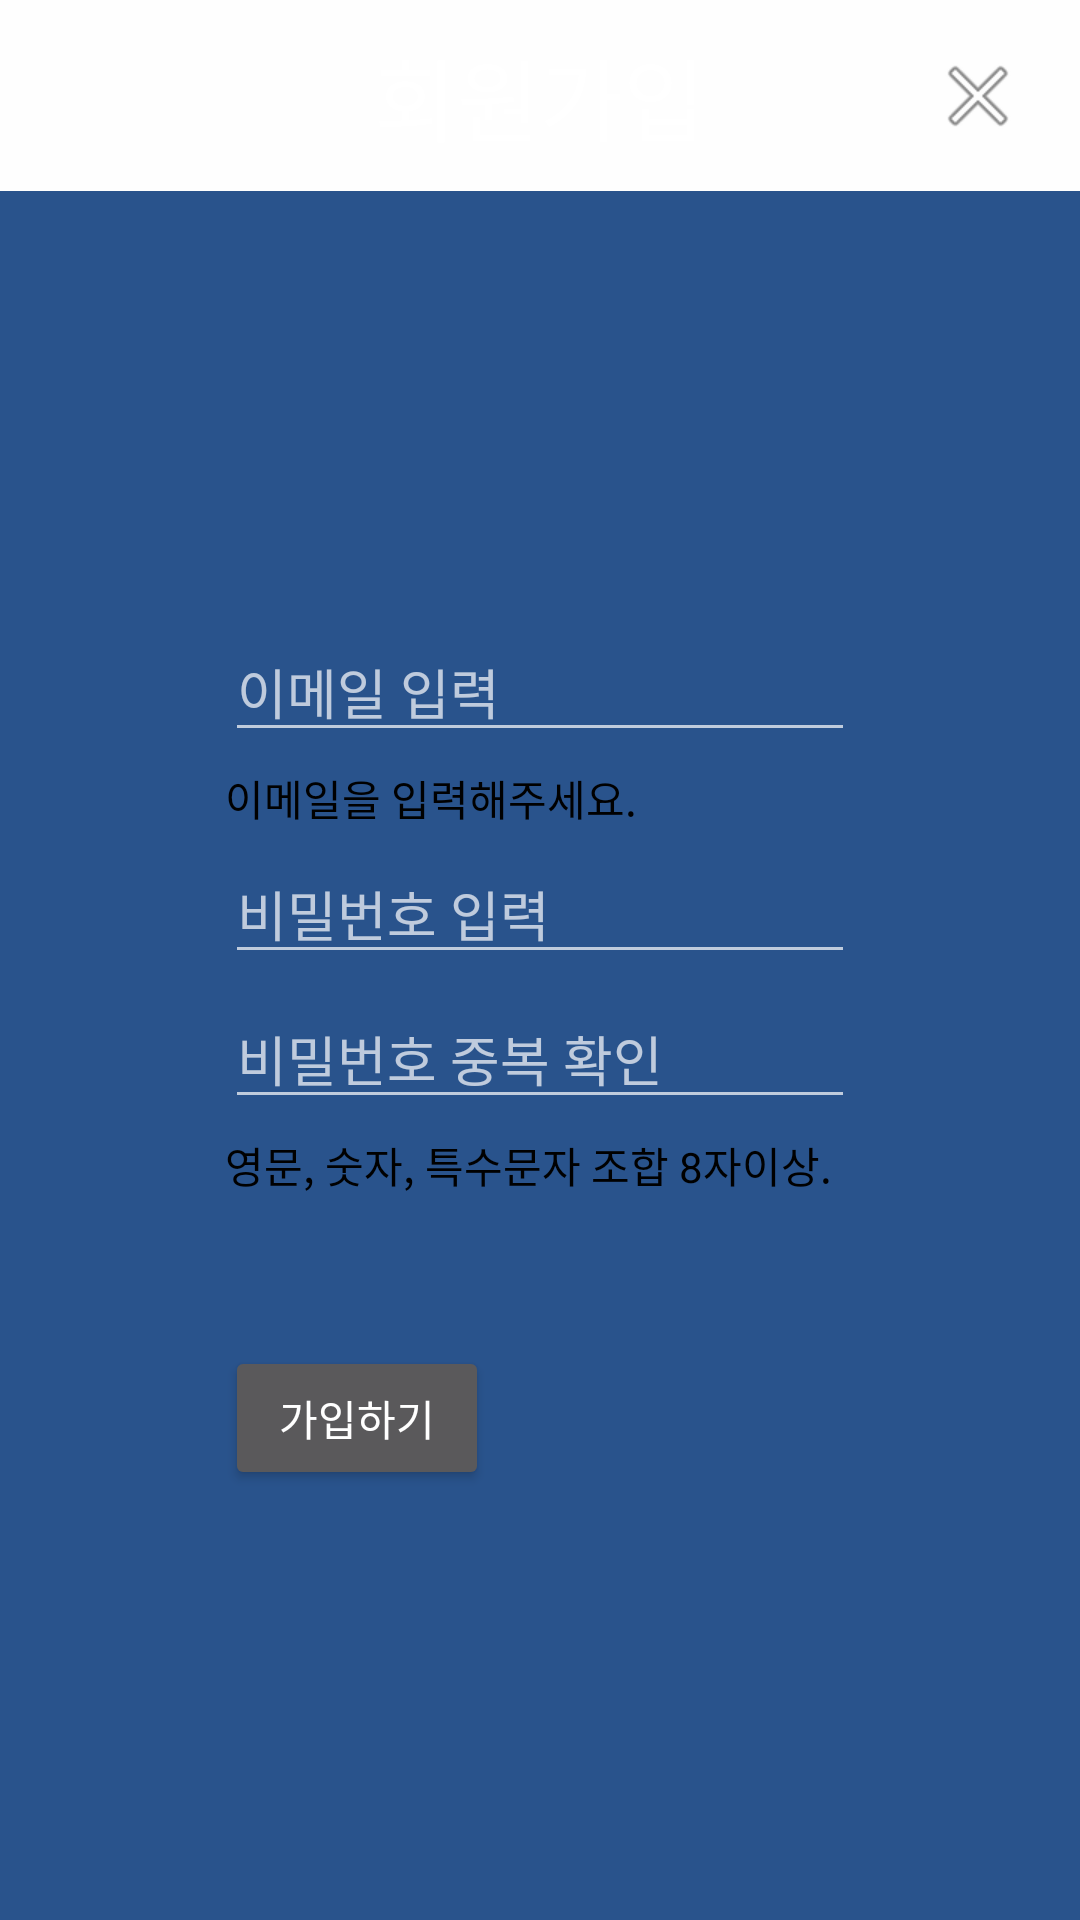

Icon click points for this 1080×1920 phone screenshot, format point (x, y):
close clear cancel: point (978, 96)
